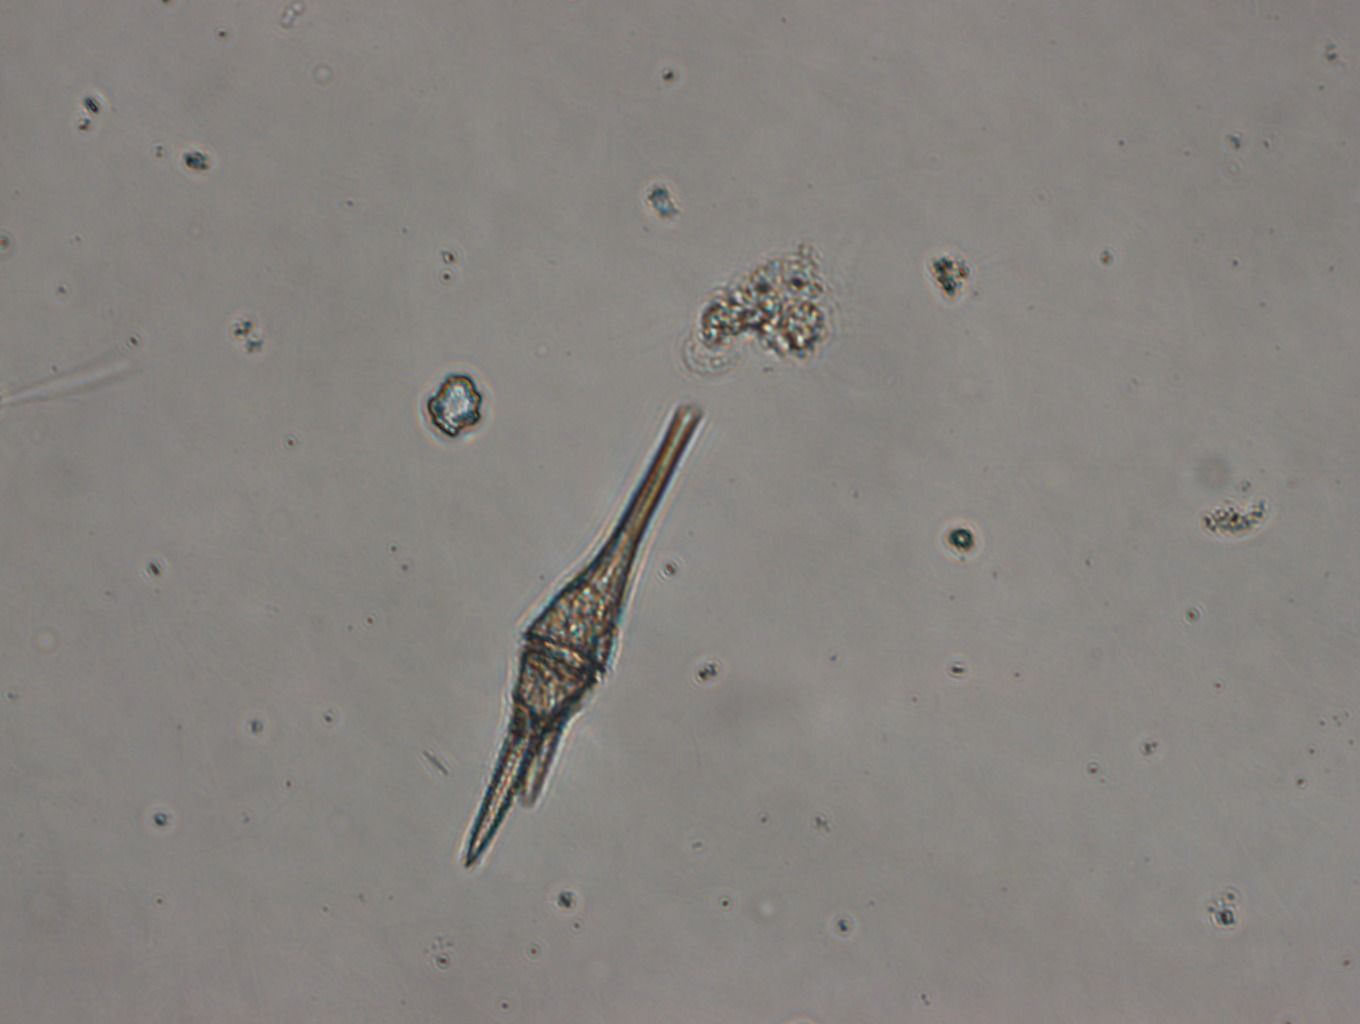ceratium furca: (461, 399, 712, 874)
